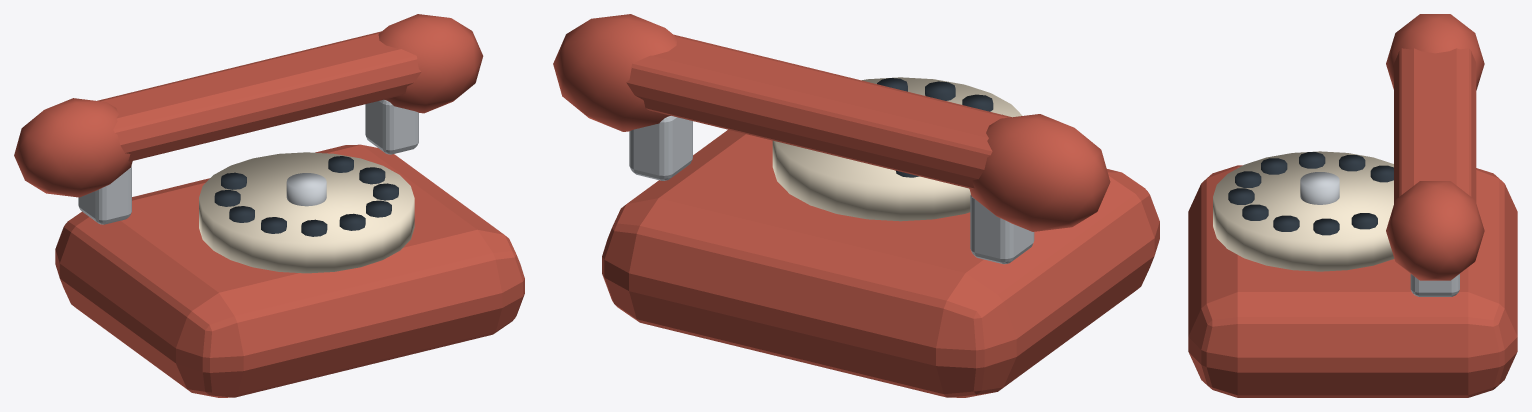
Rendered from rotary_phone.glb.
3 renders of one model, left to right at view 1: azimuth 30°, elevation 25°; view 2: azimuth 150°, elevation 25°; view 3: azimuth 270°, elevation 25°, orthographic. The views are drawn at different scales.
Visible parts, largest first — view 1: base, handset, dial-plate, handset-end, handset-end.001, cradle.001, cradle, centre; view 2: base, handset, handset-end, dial-plate, handset-end.001, cradle.001, cradle; view 3: base, dial-plate, handset, handset-end.001, handset-end, centre, cradle.001, finger-hole.001, finger-hole.003, finger-hole, finger-hole.002, finger-hole.005 (+5 smaller).
Part boxes in pixels (bbox=[...]): base: bbox=[55, 144, 524, 397]; handset: bbox=[97, 31, 421, 161]; dial-plate: bbox=[199, 152, 414, 273]; handset-end: bbox=[14, 98, 132, 197]; handset-end.001: bbox=[378, 14, 483, 113]; cradle.001: bbox=[365, 99, 418, 154]; cradle: bbox=[78, 166, 131, 224]; centre: bbox=[286, 173, 326, 206]; base: bbox=[602, 129, 1159, 397]; handset: bbox=[626, 34, 1011, 189]; handset-end: bbox=[969, 114, 1110, 231]; dial-plate: bbox=[772, 77, 1022, 221]; handset-end.001: bbox=[553, 14, 677, 131]; cradle.001: bbox=[629, 116, 692, 180]; cradle: bbox=[970, 195, 1034, 264]; base: bbox=[1188, 165, 1517, 397]; dial-plate: bbox=[1213, 151, 1394, 271]; handset: bbox=[1394, 48, 1476, 203]; handset-end.001: bbox=[1386, 181, 1484, 280]; handset-end: bbox=[1386, 14, 1484, 90]; centre: bbox=[1300, 172, 1339, 204]; cradle.001: bbox=[1410, 274, 1459, 296]; finger-hole.001: bbox=[1313, 218, 1339, 235]; finger-hole.003: bbox=[1242, 204, 1268, 220]; finger-hole: bbox=[1351, 213, 1377, 229]; finger-hole.002: bbox=[1273, 215, 1299, 231]; finger-hole.005: bbox=[1235, 171, 1261, 187].
Bounding box in the file's own units: 0.3161 × 0.155 × 0.2.
